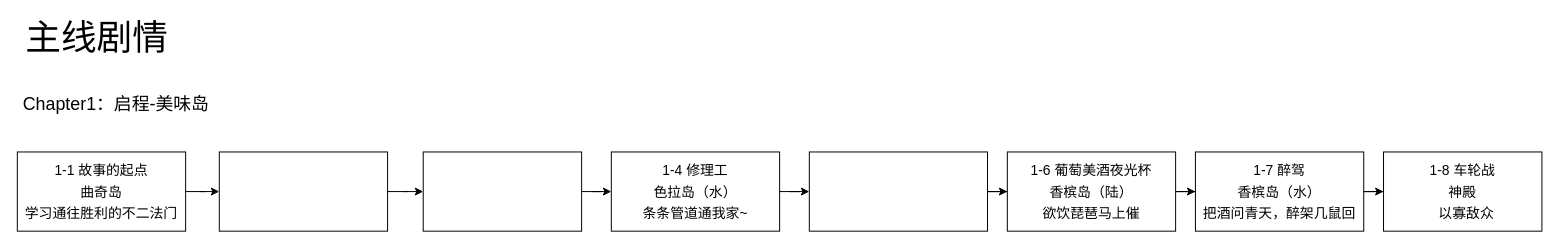
Image size: 1559x248. Some labels were removed from this diagram. The shapes that lost their labels are listed below. From the top down, each one's centre as x and y in pixels, then its label:
the point at 303,191: 1-2 初遇精英鼠军 色拉岛（陆） 试着对付更多的老鼠吧
the point at 502,191: 1-3 填海造陆 色拉岛（水） 珍爱生命，远离溺水
the point at 898,191: 1-5 夜幕 慕斯岛 以警惕姿态对抗黑夜的未知
